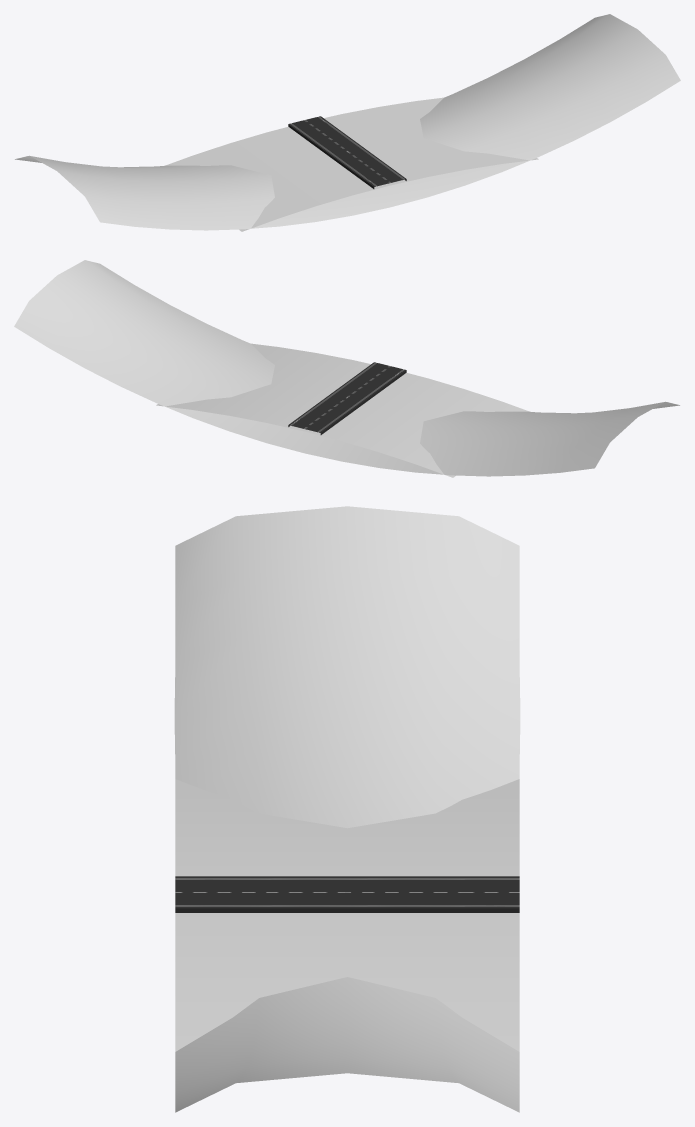
File: low_straight.FBX
3 renders of one model, top to bottom at view 1: azimuth 30°, elevation 25°; view 2: azimuth 150°, elevation 25°; view 3: azimuth 270°, elevation 25°, orthographic. The views are drawn at different scales.
Visible parts, largest first — view 1: Plane005, Plane006, Box005; view 2: Plane005, Plane006, Box005; view 3: Plane005, Plane006, Box005.
Boxes of the visible parts, x1,y1,x2,y2 form: Plane005: (15,14,680,230); Plane006: (165,97,538,231); Box005: (288,116,406,188); Plane005: (14,260,679,476); Plane006: (156,343,529,477); Box005: (288,362,406,434); Plane005: (174,506,520,1112); Plane006: (175,779,519,1051); Box005: (175,876,519,912).
Bounding box in the file's own units: 49894 × 6203 × 12865.
